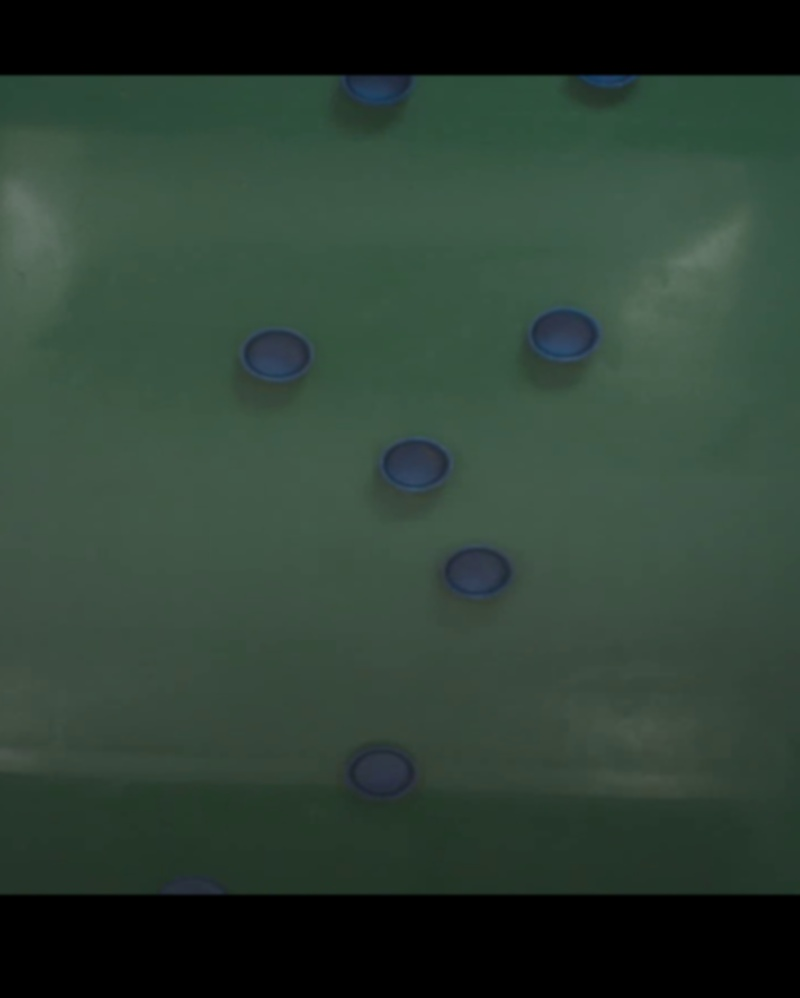Dark Blue: (239, 328, 313, 384), (379, 437, 452, 493), (444, 546, 513, 595), (349, 749, 417, 798), (532, 310, 601, 358)
